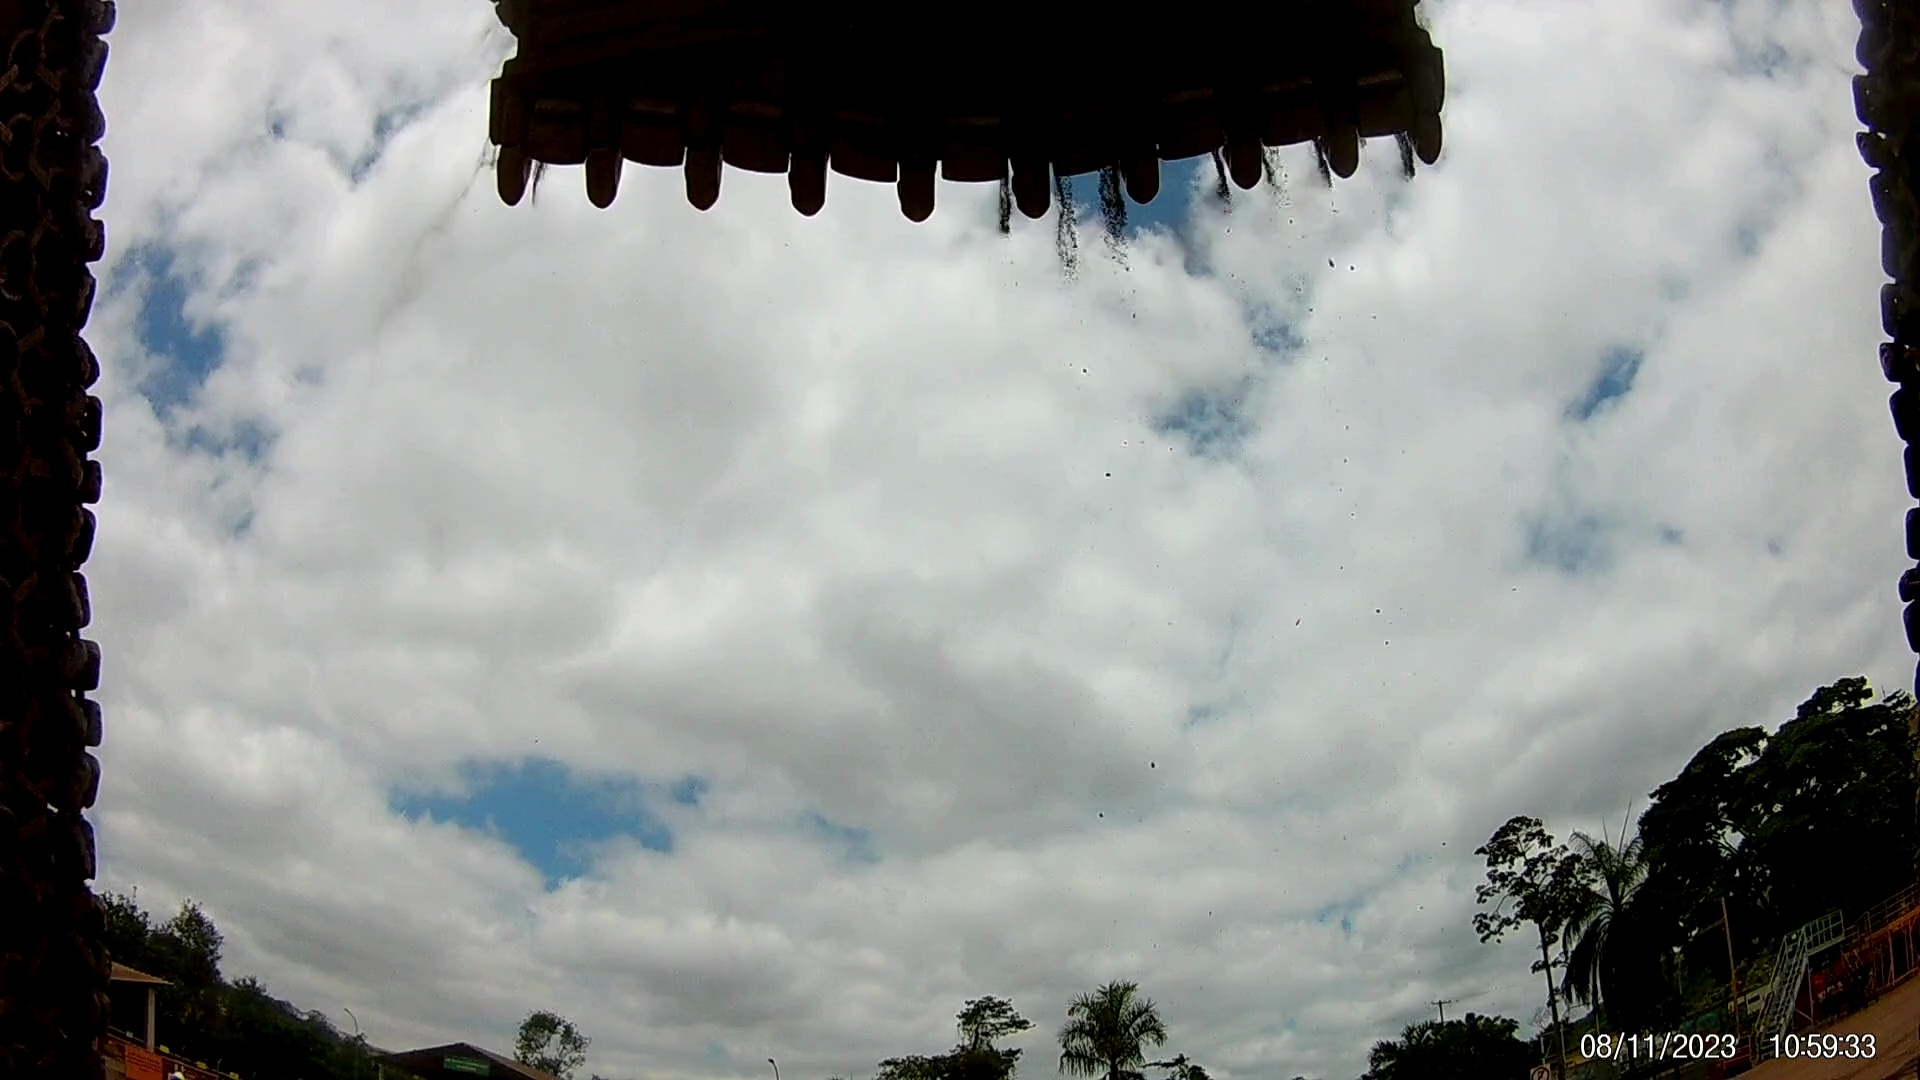FPS: (1305, 107, 1382, 193), (670, 131, 731, 218), (1112, 138, 1174, 219), (885, 156, 944, 237), (997, 153, 1063, 225), (1220, 129, 1276, 203), (773, 156, 832, 224), (1393, 105, 1451, 169), (483, 148, 547, 204), (589, 150, 625, 222)
